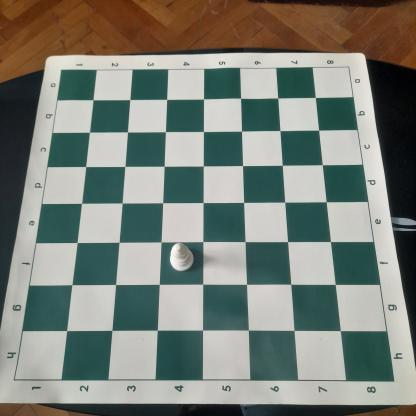white-bishop: (169, 243, 196, 273)
